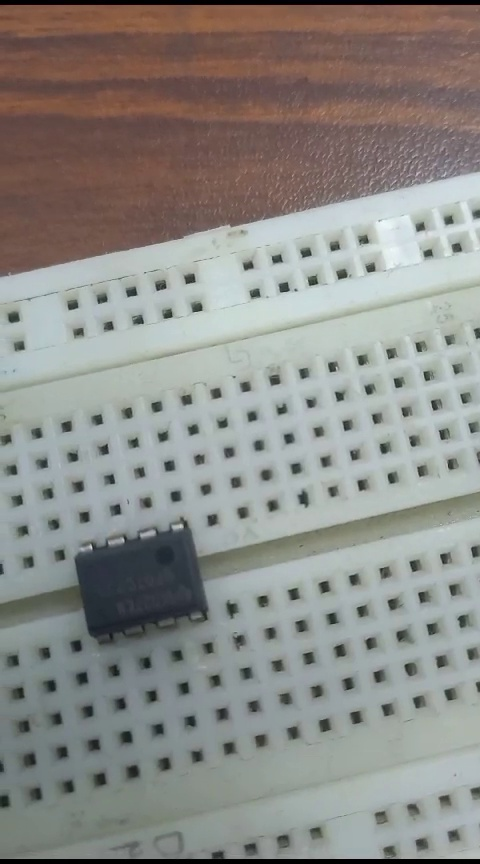IC: (78, 529, 219, 635)
